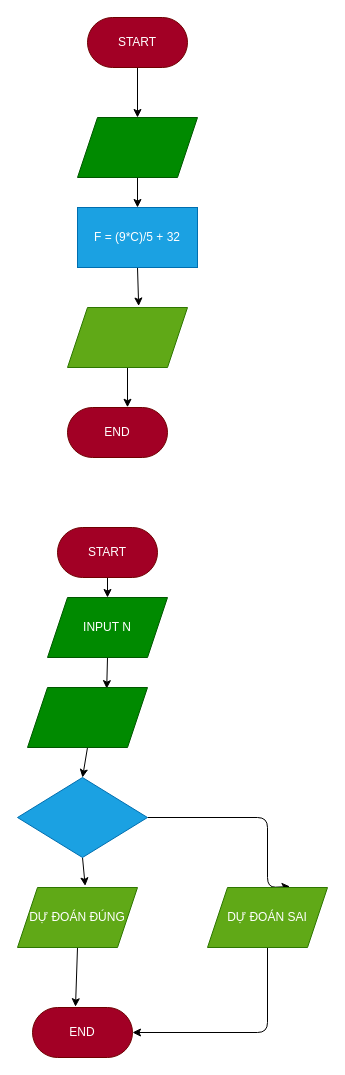
Some shapes in this 345 by 1075 pixel diagram are drawn without their labels. Here are the shapes that lost their labels. From the top down, the box of each, then its label:
(76, 116, 198, 178): INPUT C
(66, 306, 188, 368): DISPLAY F
(26, 686, 148, 748): INPUT M
(16, 776, 148, 858): IF (N=M)
